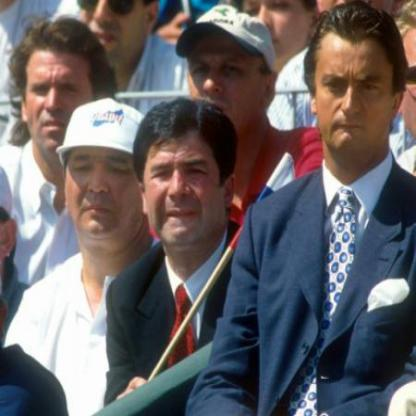face: (142, 104, 228, 252), (315, 9, 397, 162), (64, 102, 149, 246), (189, 12, 268, 139), (23, 29, 99, 155), (239, 1, 313, 70), (79, 1, 149, 66)
